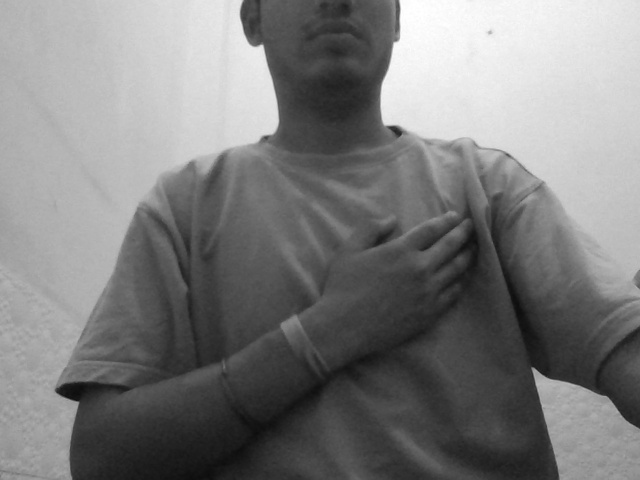Sorry: (287, 183, 538, 388)
